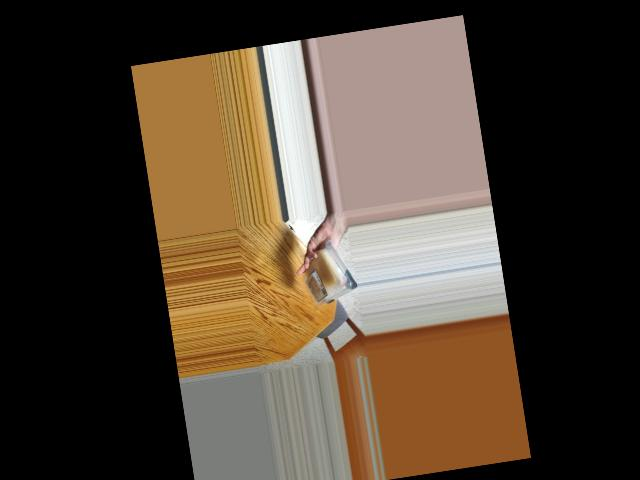cheese: (300, 244, 355, 306)
